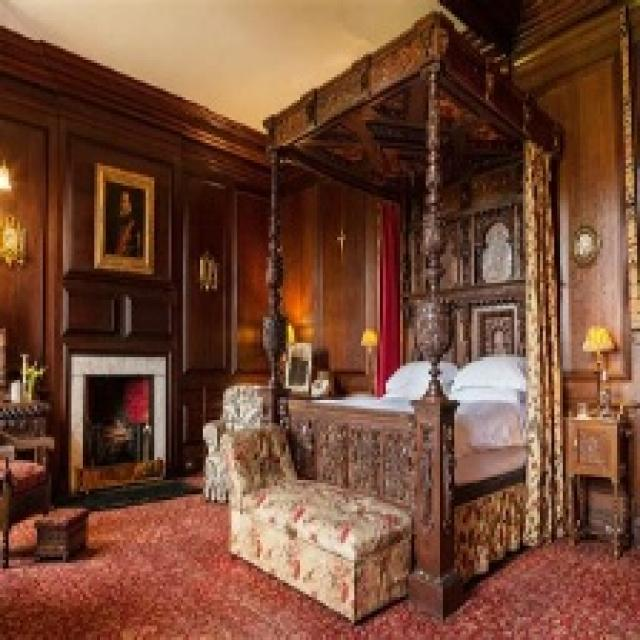Bed: (260, 6, 563, 620)
